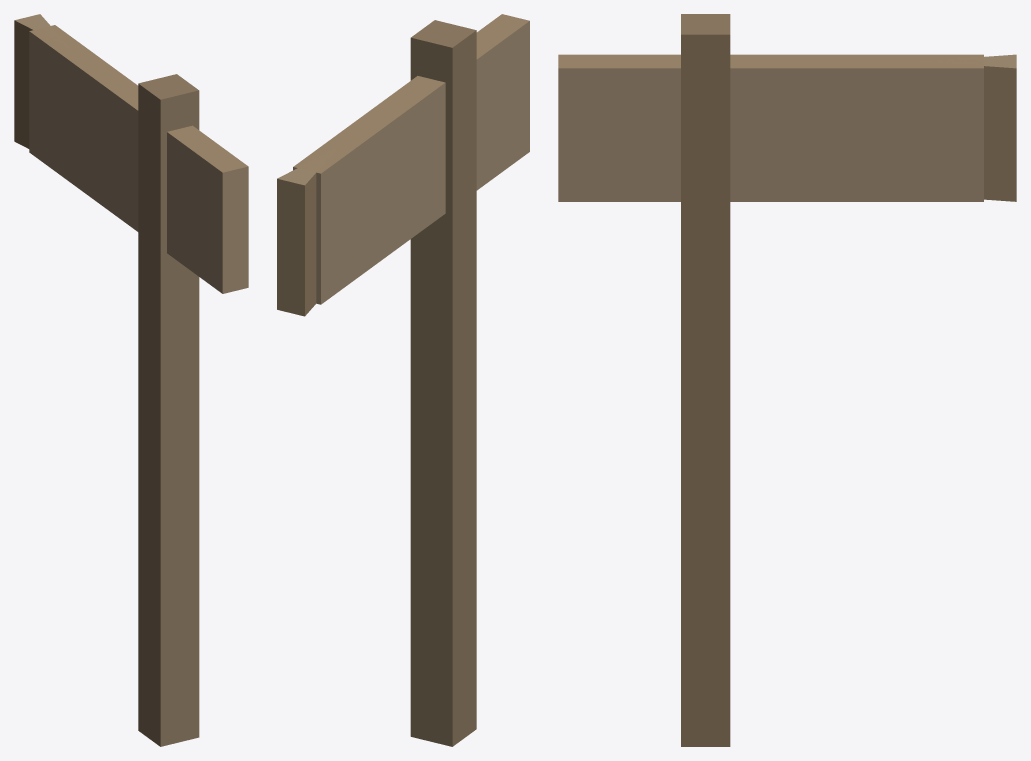
The model's file is signpost.glb.
The picture shows the model from 3 angles, left to right: view 1: azimuth 30°, elevation 25°; view 2: azimuth 150°, elevation 25°; view 3: azimuth 270°, elevation 25°; orthographic projection. The views are drawn at different scales.
Parts seen in each view (by area): view 1: signpost2; view 2: signpost2; view 3: signpost2.
Part boxes in pixels (x1=…): signpost2: x1=14, y1=14, x2=248, y2=746; signpost2: x1=277, y1=14, x2=529, y2=746; signpost2: x1=558, y1=14, x2=1016, y2=746.
Size of the model in its own units: 0.15 by 2.4 by 1.4.
